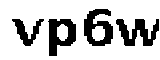6: (81, 5, 114, 52)
p: (45, 16, 78, 59)
v: (8, 15, 44, 48)
w: (115, 15, 160, 49)
